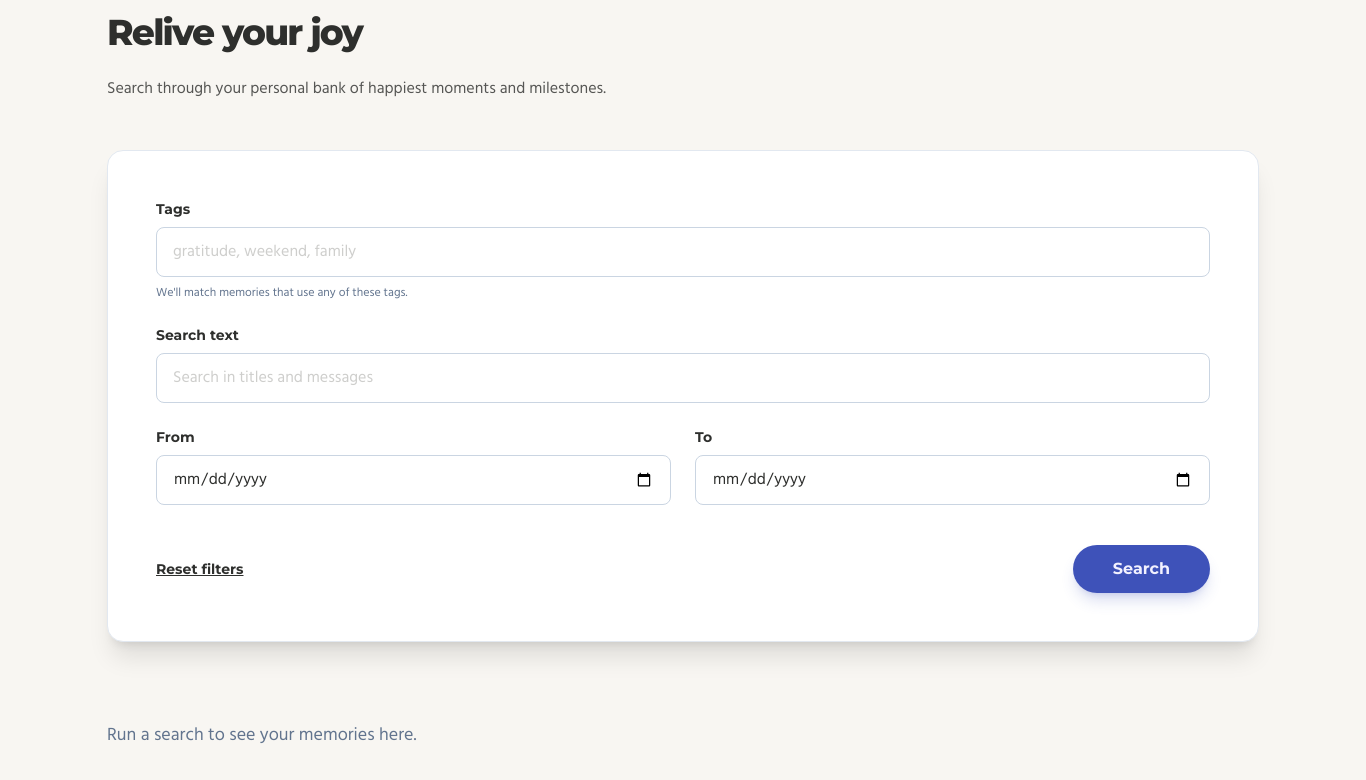
it: SearchMemoriesContent › Hashtag Buttons & Input Behavior › adds hashtag button when comma key is pressed
This screenshot has width=1366, height=780.
Type "family," into the field with id "search-hashtags" at (683, 252), box [173,240,1193,264]
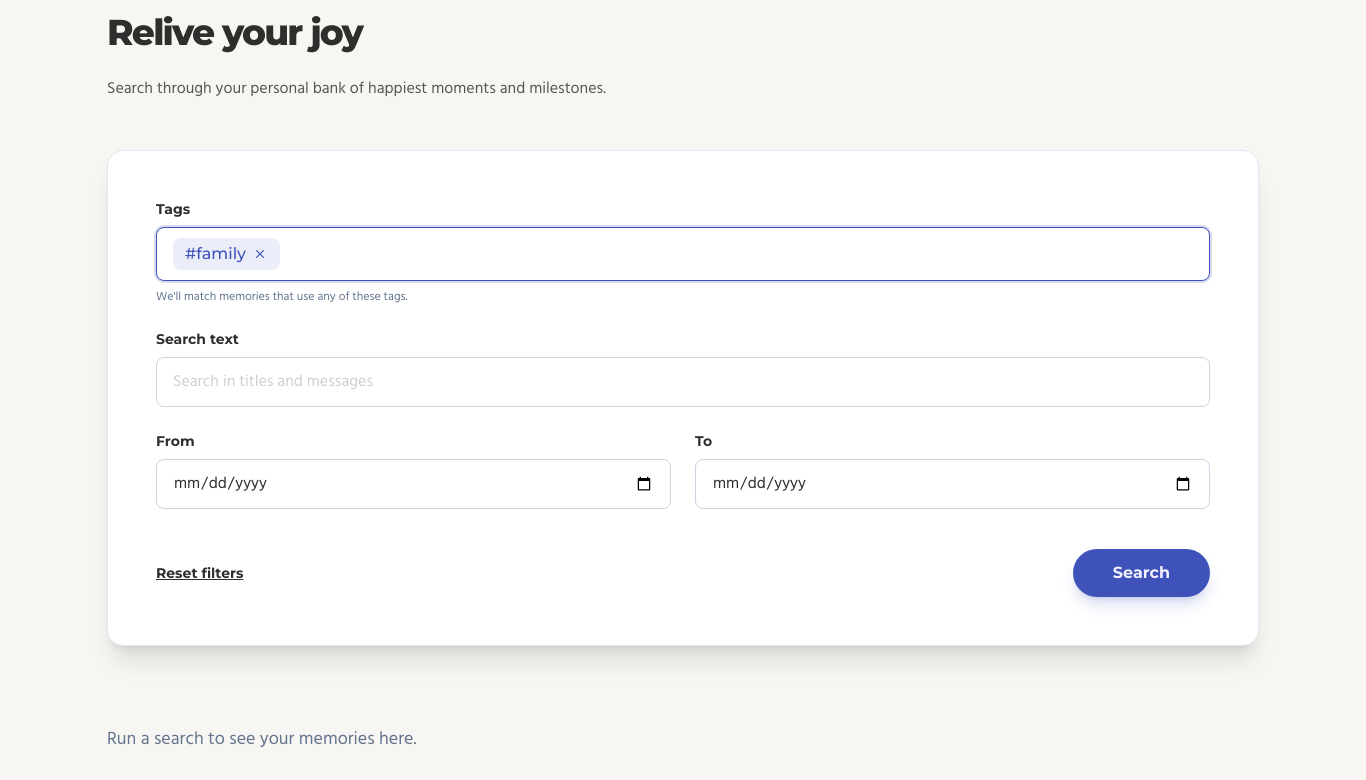
Check: the field with id "search-hashtags" is empty, box [288,242,1193,266]
Check: the text "#family" is shown, box [173,238,280,270]
